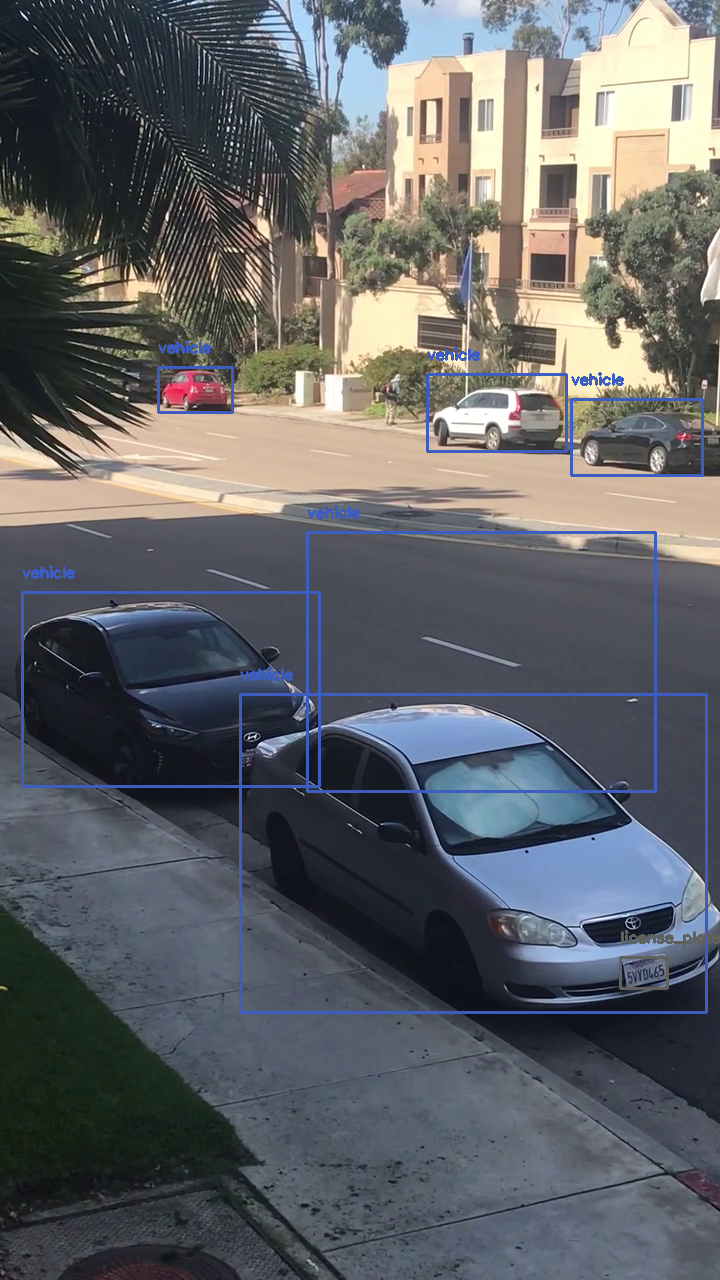license_plate: (620, 957, 667, 988)
vehicle: (240, 694, 706, 1012), (307, 532, 655, 791), (22, 592, 319, 786), (427, 374, 566, 451), (571, 399, 702, 475), (158, 367, 232, 412)
